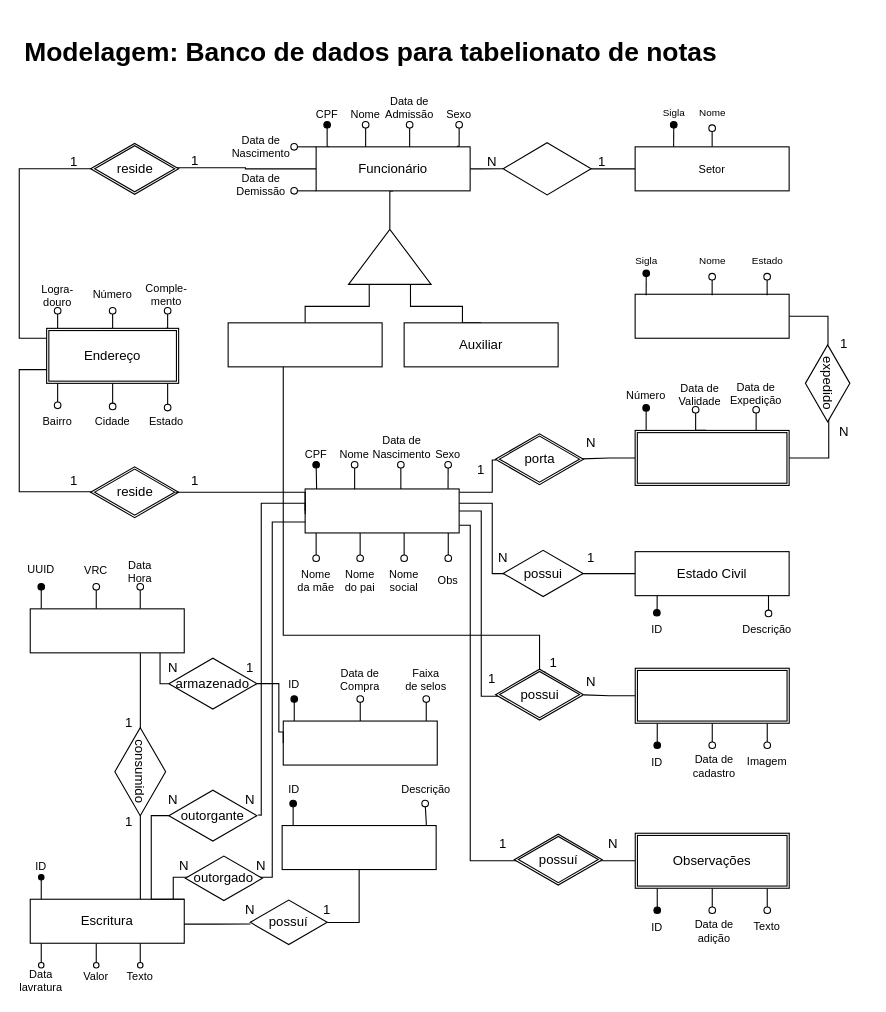
This 886x1012 diagram has some shape labels left out. The centre of each missing label's shape, as x and y in pixels:
Assinatura: the point at 711,695
cargo: the point at 389,256
Cliente: the point at 381,510
Documento de Identificação: the point at 711,457
Escrevente: the point at 304,344
Lote de Selos: the point at 359,742
Orgão expedidor: the point at 711,315
pertence: the point at 546,168
Selo: the point at 106,630
Tipo de escritura: the point at 358,847
